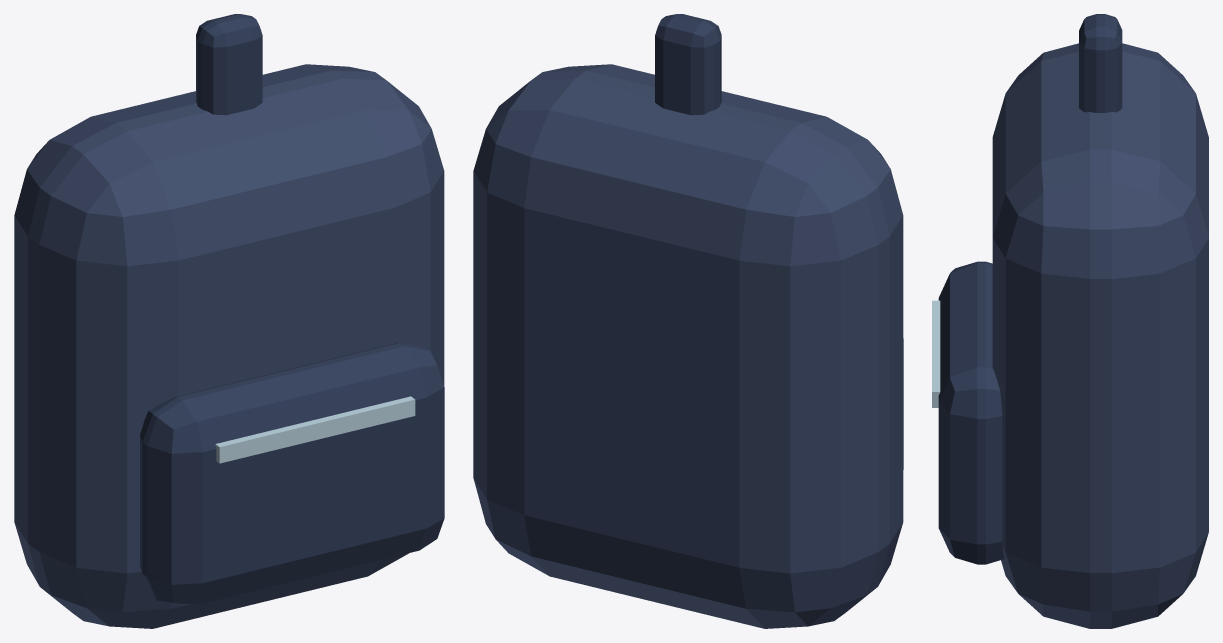
The model's file is bag.glb.
The picture shows the model from 3 angles, left to right: view 1: azimuth 30°, elevation 25°; view 2: azimuth 150°, elevation 25°; view 3: azimuth 270°, elevation 25°; orthographic projection. The views are drawn at different scales.
Visible parts, largest first — view 1: Bag; view 2: Bag; view 3: Bag.
Boxes of the visible parts, x1=… form: Bag: x1=14, y1=14, x2=444, y2=628; Bag: x1=473, y1=14, x2=903, y2=628; Bag: x1=932, y1=14, x2=1208, y2=628.
Bounding box in the file's own units: 0.2 × 0.28 × 0.128.
